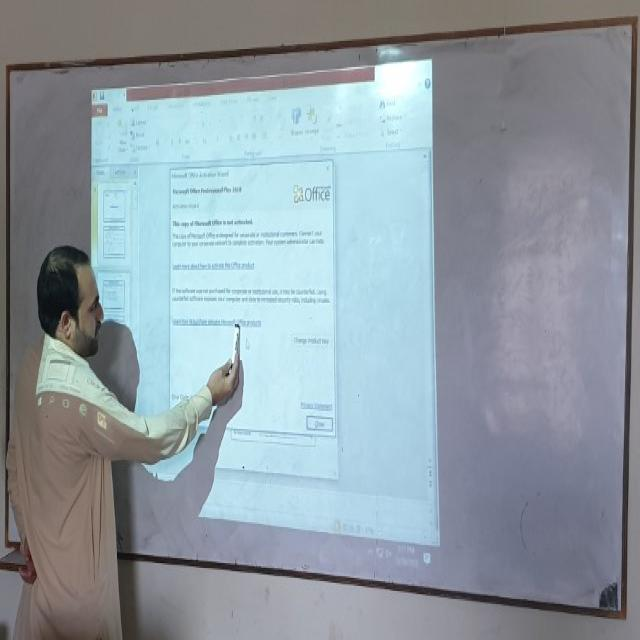Instructor: (28, 251, 130, 640)
Slide: (83, 52, 444, 580)
White-board: (6, 21, 634, 619)
